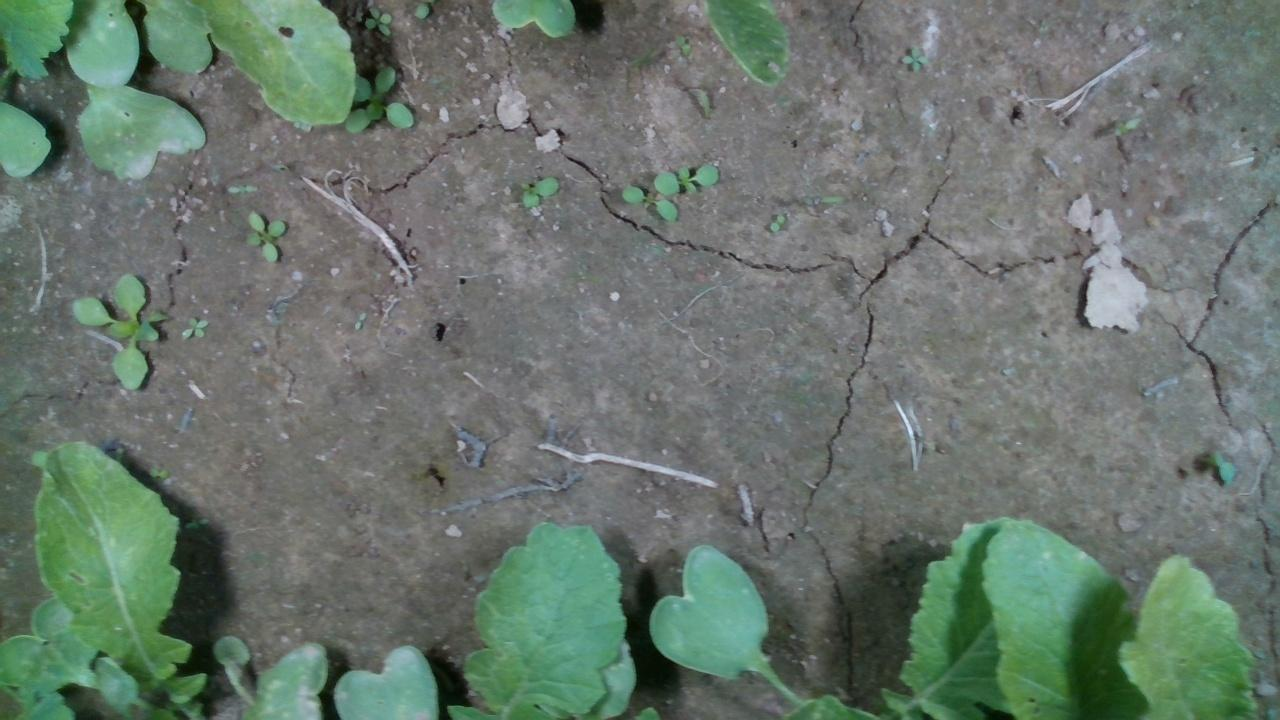weed: (242, 210, 288, 262), (515, 175, 559, 208), (896, 45, 930, 73), (178, 314, 209, 341), (798, 193, 846, 205), (766, 212, 786, 232), (225, 183, 258, 193)
